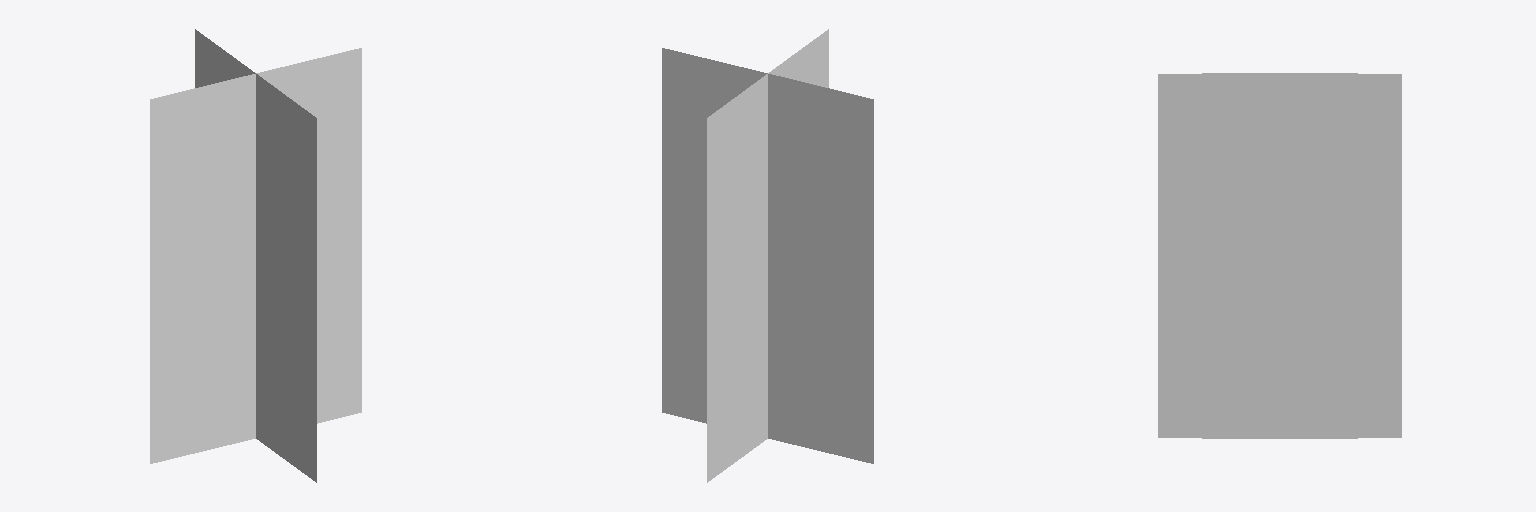
The model's file is Shadbush_Fan_0.obj.
The picture shows the model from 3 angles: view 1: azimuth 30°, elevation 25°; view 2: azimuth 150°, elevation 25°; view 3: azimuth 270°, elevation 25°; orthographic projection.
Visible parts, largest first — view 1: CreateFan; view 2: CreateFan; view 3: CreateFan.
Part boxes in pixels (x1,y1,x2,y2): CreateFan: (150,29,361,482); CreateFan: (662,29,873,482); CreateFan: (1158,73,1401,438).
Size of the model in its own units: 2.43 by 4 by 2.43.